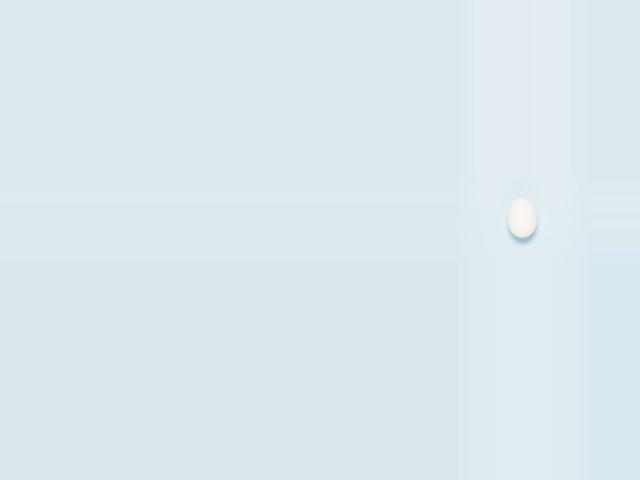egg: (507, 197, 537, 238)
